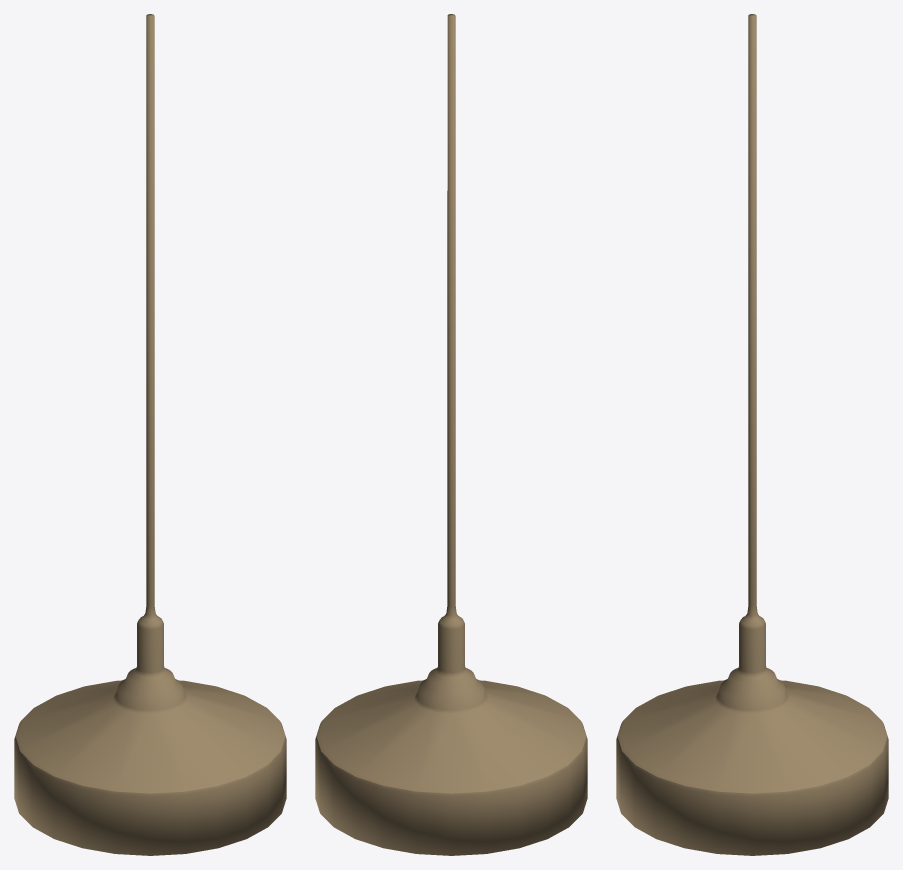
Rendered from Asset_BarLamp.fbx.
The picture shows the model from 3 angles, left to right: view 1: azimuth 30°, elevation 25°; view 2: azimuth 150°, elevation 25°; view 3: azimuth 270°, elevation 25°; orthographic projection.
Visible parts, largest first — view 1: Asset_BarLamp; view 2: Asset_BarLamp; view 3: Asset_BarLamp.
Boxes of the visible parts, bbox=[...] form: Asset_BarLamp: bbox=[14, 14, 286, 855]; Asset_BarLamp: bbox=[315, 14, 587, 855]; Asset_BarLamp: bbox=[616, 14, 888, 855].
Size of the model in its own units: 0.382 by 1.25 by 0.382.
